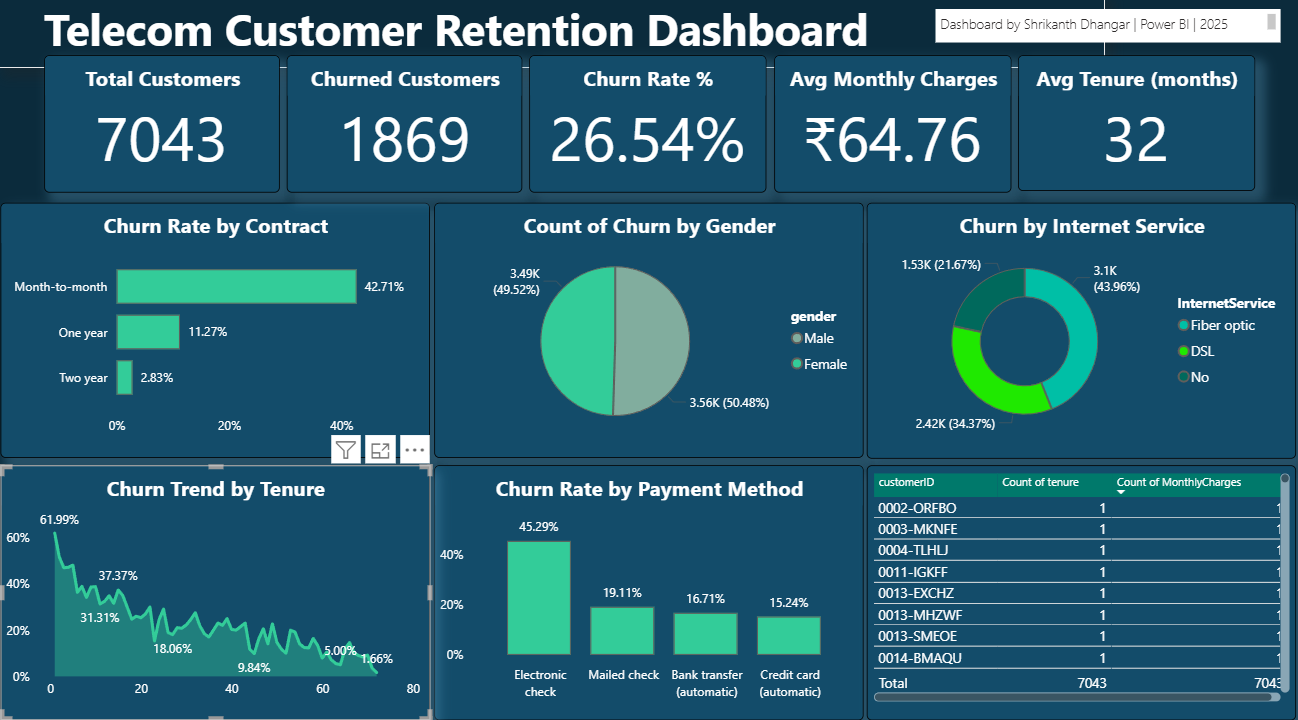

What the dashboard file says about the page in this screenshot:
{"tool":"powerbi","page":{"name":"Page 1","canvas":[1280,720],"ordinal":0},"visuals":[{"type":"textbox","box":[0,0,1082.7,72.7],"z":0},{"type":"card","title":"Total Customers","fields":{"Values":["Customers.Total Customers"]},"box":[45.3,60.4,230.5,134.5],"z":1000},{"type":"clusteredBarChart","title":"Churn Rate by Contract","fields":{"Category":["Customers.Contract"],"Y":["Customers.Churn Rate %"]},"box":[2.7,204.5,419.9,249.7],"z":2000},{"type":"card","title":"Churned Customers","fields":{"Values":["Customers.Churned Customers"]},"box":[282.7,60.4,230.5,134.5],"z":3000},{"type":"card","title":"Churn Rate %","fields":{"Values":["Customers.Churn Rate %","select"]},"box":[520.1,60.4,231.9,134.5],"z":4000},{"type":"lineChart","title":"Churn Trend by Tenure","fields":{"Category":["Customers.tenure"],"Y":["Customers.Churn Rate %"]},"box":[2.7,461.1,419.9,249.7],"z":5000},{"type":"card","title":"Avg Monthly Charges","fields":{"Values":["Customers.Avg Monthly Charges"]},"box":[758.8,60.4,231.9,134.5],"z":6000},{"type":"pieChart","title":"Count of Churn by Gender","fields":{"Category":["Customers.gender"],"Y":["CountNonNull(Customers.Churn)"]},"box":[426.8,204.5,419.9,249.7],"z":7000},{"type":"card","title":"Avg Tenure (months)","fields":{"Values":["Customers.Avg Tenure"]},"box":[997.6,60.4,231.9,133.1],"z":8000},{"type":"clusteredColumnChart","title":"Churn Rate by Payment Method","fields":{"Category":["Customers.PaymentMethod"],"Y":["Customers.Churn Rate %"]},"box":[426.8,461.1,419.9,249.7],"z":9000},{"type":"donutChart","title":"Churn by Internet Service","fields":{"Category":["Customers.InternetService"],"Y":["CountNonNull(Customers.Churn)"]},"box":[849.4,204.5,420,250],"z":10000},{"type":"tableEx","fields":{"Values":["Customers.customerID","CountNonNull(Customers.tenure)","CountNonNull(Customers.MonthlyCharges)"]},"box":[849.4,461.1,419.9,249.7],"z":11000},{"type":"textbox","box":[917.1,14.7,337.5,33],"z":11001}]}

Visuals, with their boxes in screenshot pixels (x1, y1, x2, y2), scaled from the page's 1280x720 canvas onto the 1298x720 screenshot:
textbox: <region>0, 0, 1098, 73</region>
"Total Customers" card: <region>46, 60, 280, 195</region>
"Churn Rate by Contract" clusteredBarChart: <region>3, 204, 429, 454</region>
"Churned Customers" card: <region>287, 60, 520, 195</region>
"Churn Rate %" card: <region>527, 60, 763, 195</region>
"Churn Trend by Tenure" lineChart: <region>3, 461, 429, 711</region>
"Avg Monthly Charges" card: <region>769, 60, 1005, 195</region>
"Count of Churn by Gender" pieChart: <region>433, 204, 859, 454</region>
"Avg Tenure (months)" card: <region>1012, 60, 1247, 194</region>
"Churn Rate by Payment Method" clusteredColumnChart: <region>433, 461, 859, 711</region>
"Churn by Internet Service" donutChart: <region>861, 204, 1287, 454</region>
tableEx - Customers.customerID x CountNonNull(Customers.tenure): <region>861, 461, 1287, 711</region>
textbox: <region>930, 15, 1272, 48</region>
